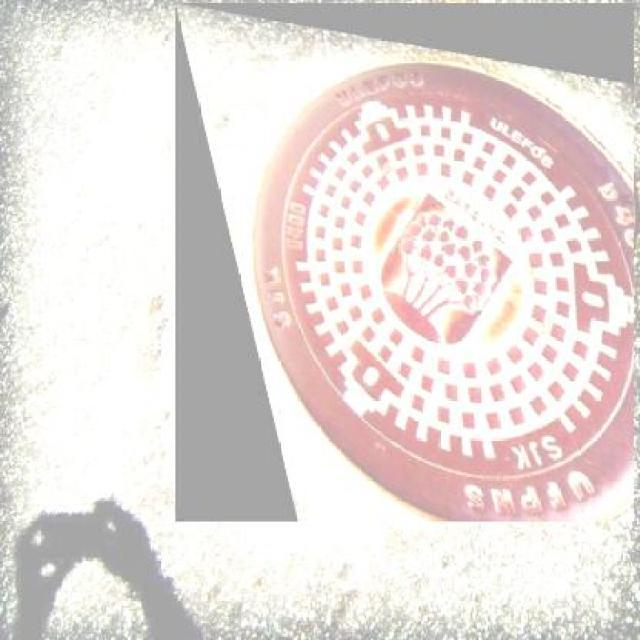Manhole: (176, 3, 635, 522)
